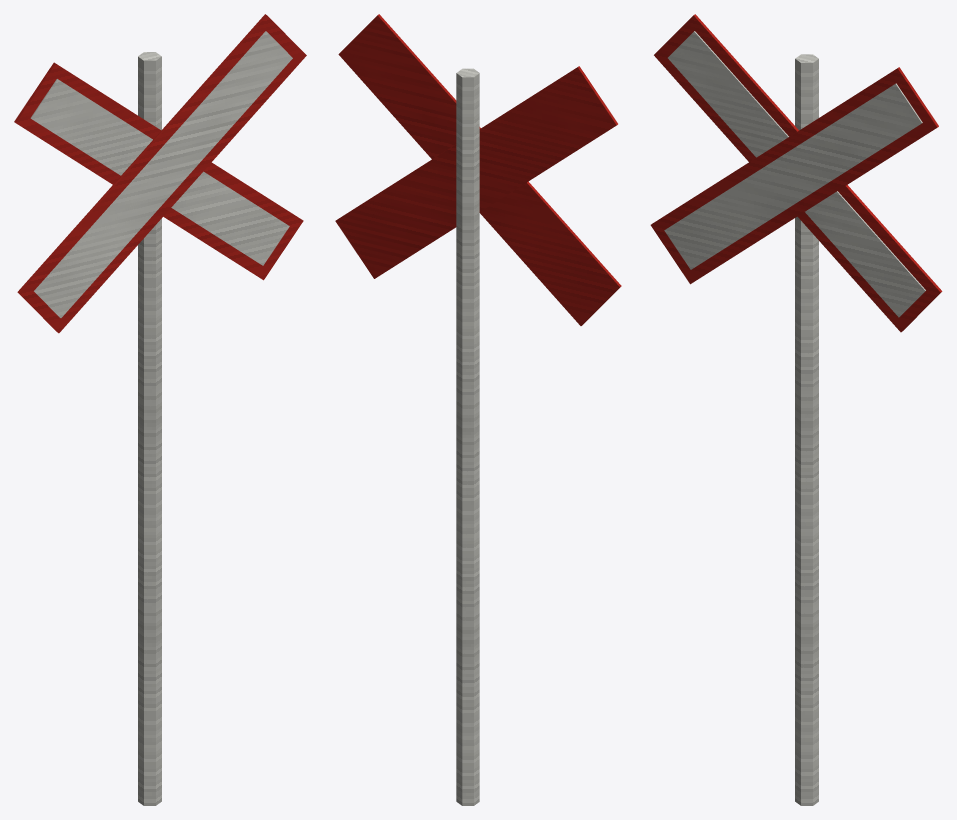
Rendered from placa_ferrovia.glb.
The picture shows the model from 3 angles, left to right: view 1: azimuth 30°, elevation 25°; view 2: azimuth 150°, elevation 25°; view 3: azimuth 330°, elevation 25°; orthographic projection. The views are drawn at different scales.
Visible parts, largest first — view 1: Inteiro, Peca_01; view 2: Inteiro, Peca_01; view 3: Inteiro, Peca_01.
Boxes of the visible parts, x1=… form: Inteiro: x1=14, y1=14, x2=306, y2=805; Peca_01: x1=32, y1=32, x2=288, y2=316; Inteiro: x1=338, y1=14, x2=621, y2=805; Peca_01: x1=335, y1=15, x2=616, y2=296; Inteiro: x1=650, y1=14, x2=942, y2=805; Peca_01: x1=668, y1=34, x2=879, y2=294.
Size of the model in its own units: 1.11 by 2.84 by 0.133.
Materials: 1 (1 with a texture image).
